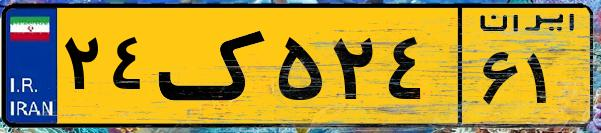1: (525, 38, 570, 115)
2: (330, 28, 385, 110), (57, 26, 110, 100)
4: (385, 28, 445, 110), (110, 28, 158, 98)
5: (270, 28, 330, 110)
6: (475, 38, 525, 113)
ک: (158, 12, 270, 120)
